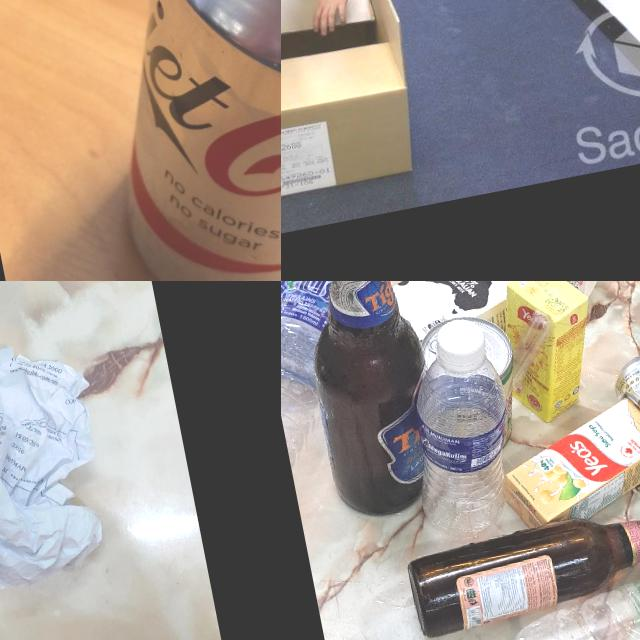caixinha: (487, 392, 640, 535), (487, 281, 609, 429), (381, 281, 623, 350)
garrafa de vidro: (284, 281, 454, 524), (405, 493, 640, 640)
garrafa plástica: (394, 348, 532, 550), (281, 281, 377, 475), (501, 542, 640, 640)
lata: (45, 0, 281, 281), (418, 310, 530, 461), (611, 341, 640, 515)
papel: (0, 281, 118, 610)
papelão: (281, 0, 428, 202)
tampa plástica: (434, 316, 490, 376)
